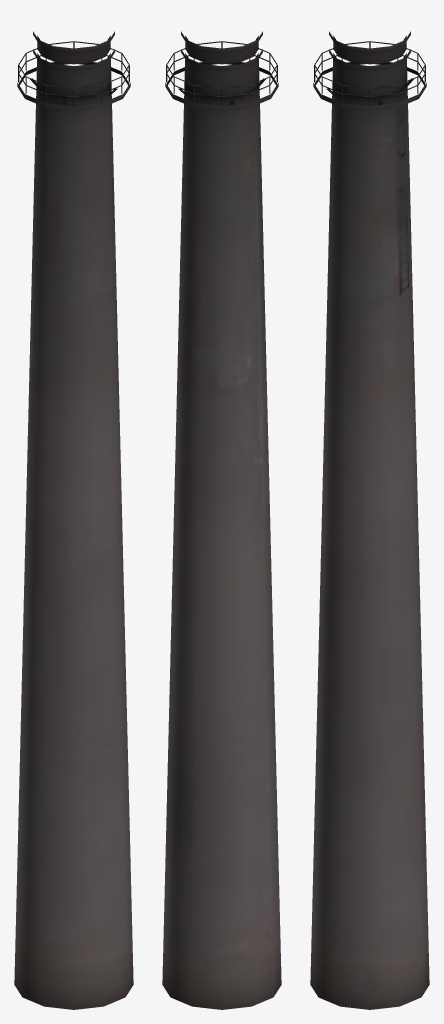
3 views of the same model, side by side, from view 1: azimuth 30°, elevation 25°; view 2: azimuth 150°, elevation 25°; view 3: azimuth 330°, elevation 25° (orthographic).
Visible parts, largest first — view 1: body0_model0_lod0_mesh0; view 2: body0_model0_lod0_mesh0; view 3: body0_model0_lod0_mesh0.
Boxes of the visible parts, left/top/right/bottom form: body0_model0_lod0_mesh0: left=14, top=31, right=133, bottom=1009; body0_model0_lod0_mesh0: left=162, top=31, right=281, bottom=1009; body0_model0_lod0_mesh0: left=310, top=31, right=429, bottom=1009.
Size of the model in its own units: 12.63 by 112 by 12.63.
1 material, 1 textured.
